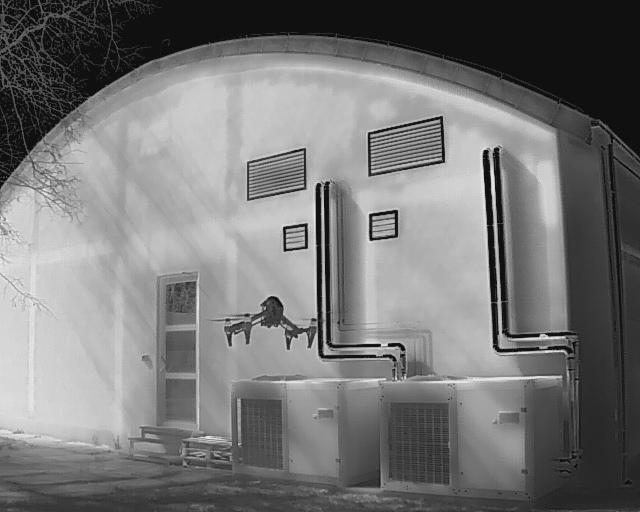drone: (203, 288, 330, 359)
